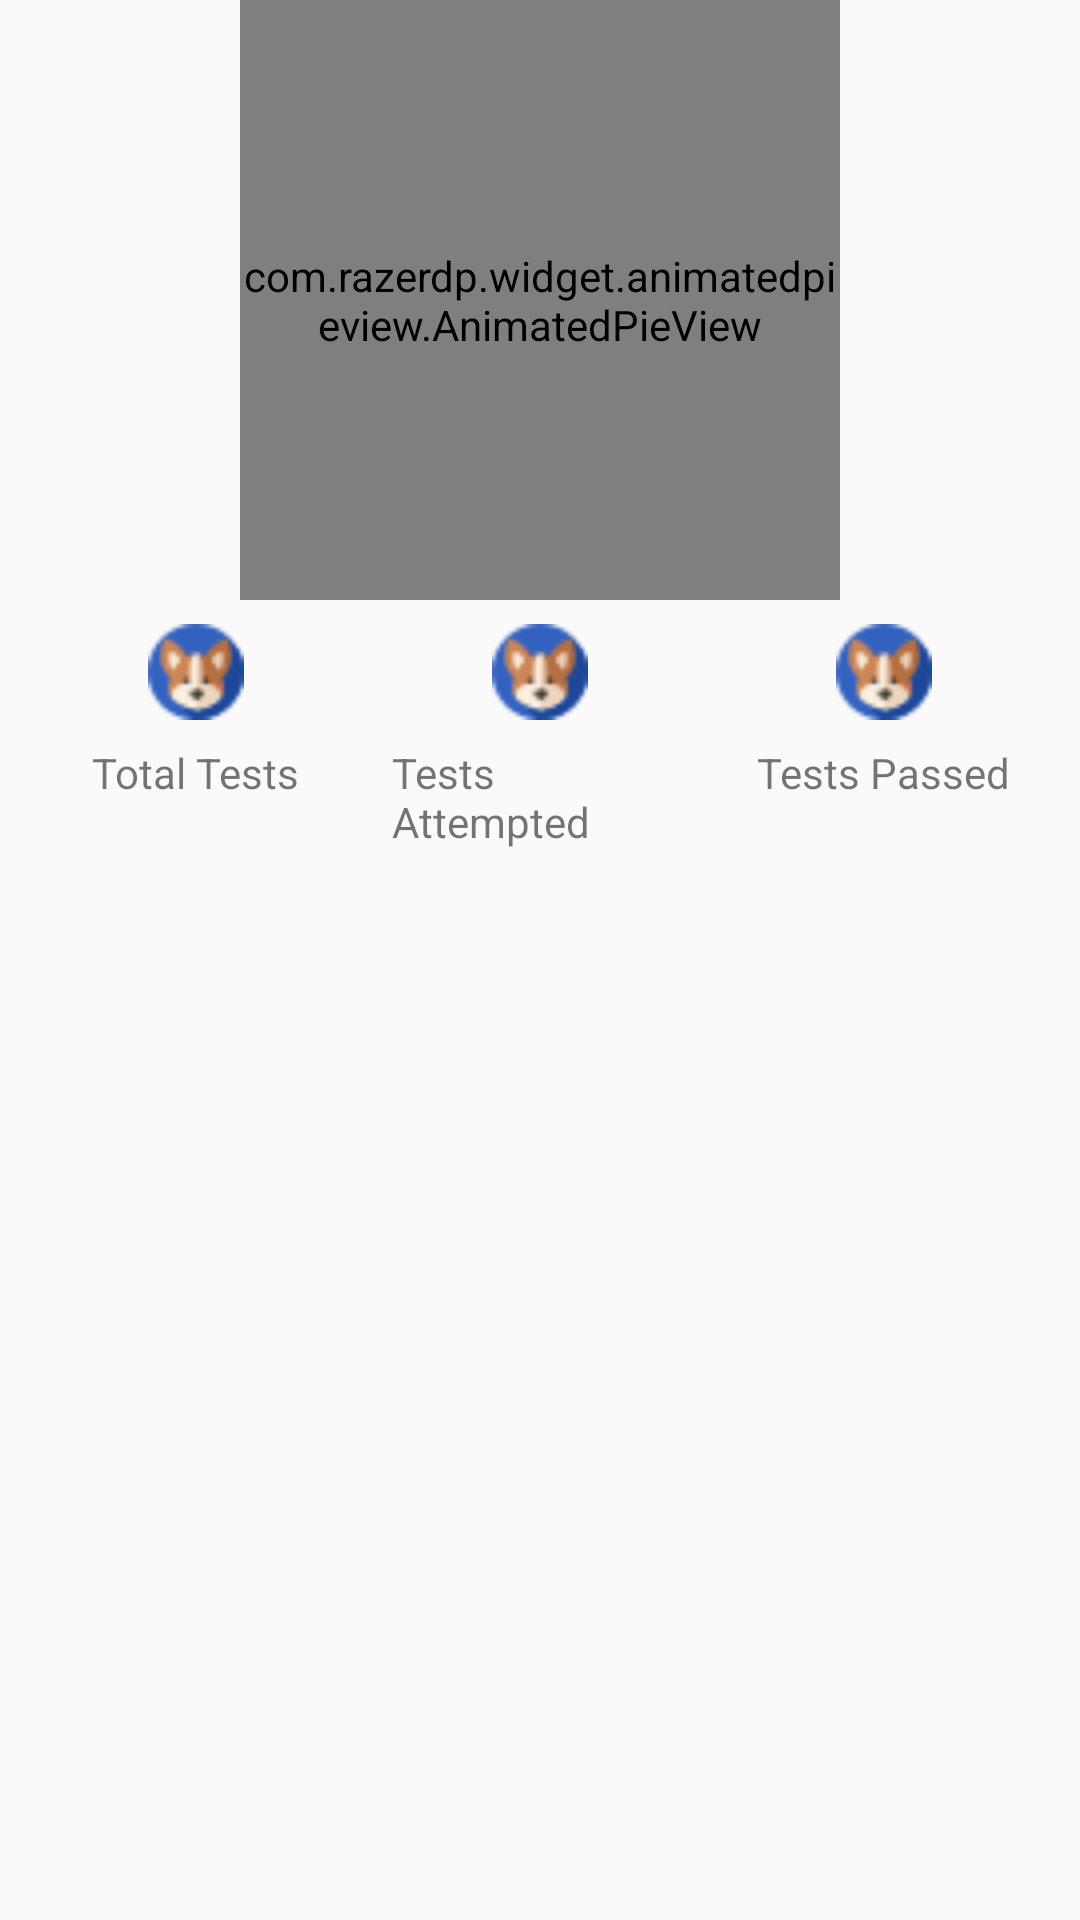

Icon bounding boxes for this 1080px x 1920px phone screenshot, format [x1, y1, x2, y2]:
dog: [148, 624, 244, 720], [492, 624, 588, 720], [836, 624, 932, 720]
